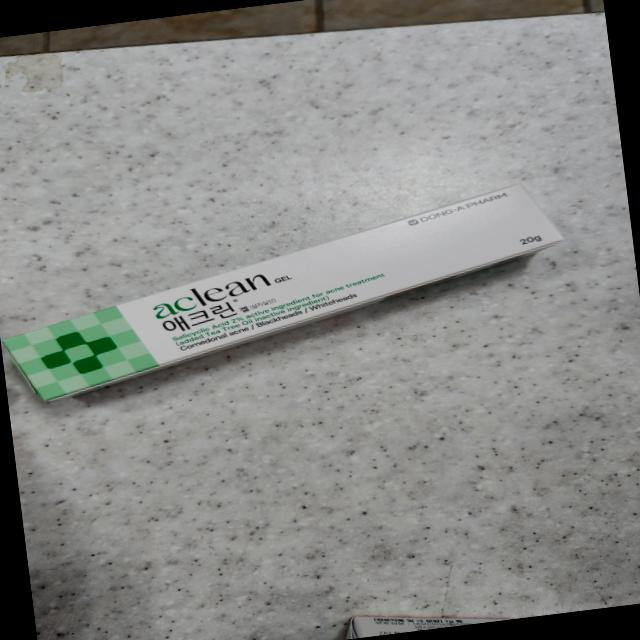box: (0, 181, 574, 406)
